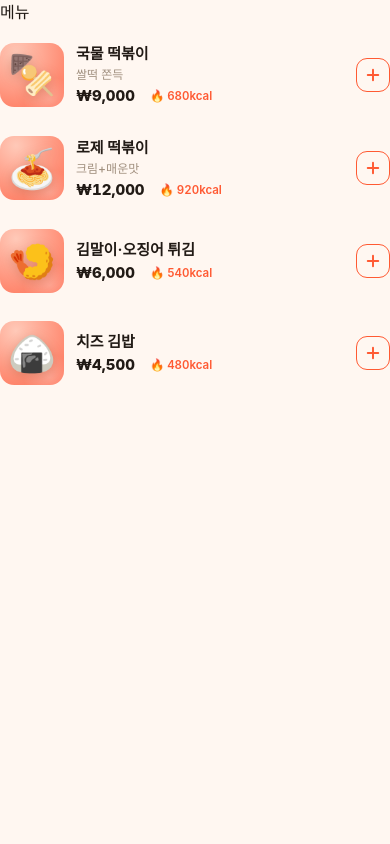
ClearCartModal — store-switch confirm gate (D-09) › cancelling leaves the original r1 cart intact
Click the button named "국물 떡볶이 담기": (373, 75) [356,58,389,92]
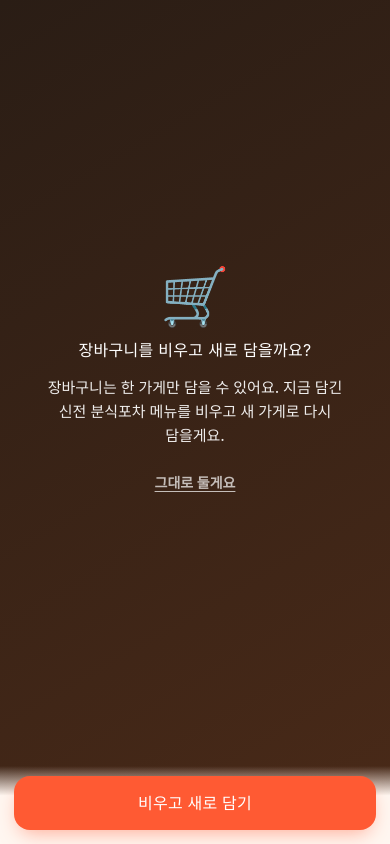
Click the button "그대로 둘게요": (195, 482) [145,466,245,498]
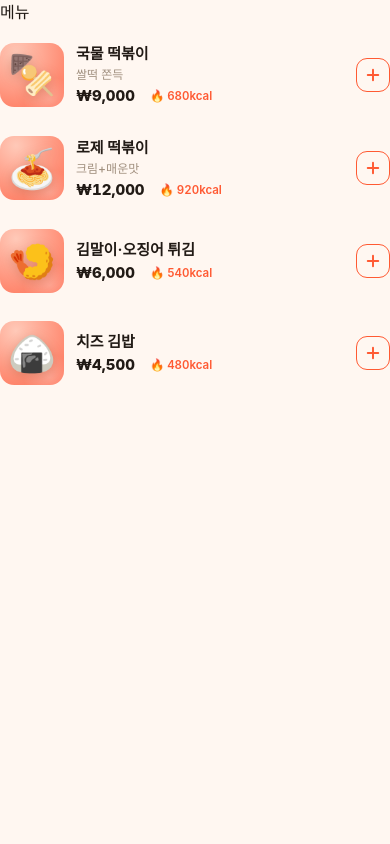
expect the dialog is gone: met
